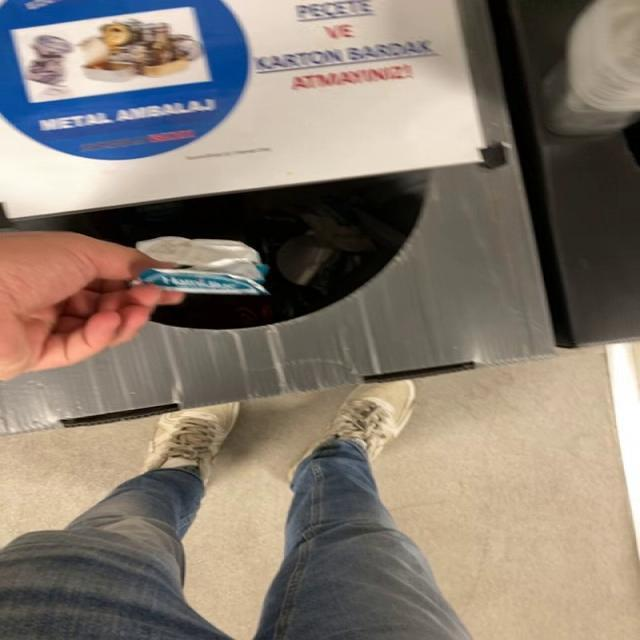Bin: (1, 0, 553, 434)
Metal: (136, 236, 268, 296)
